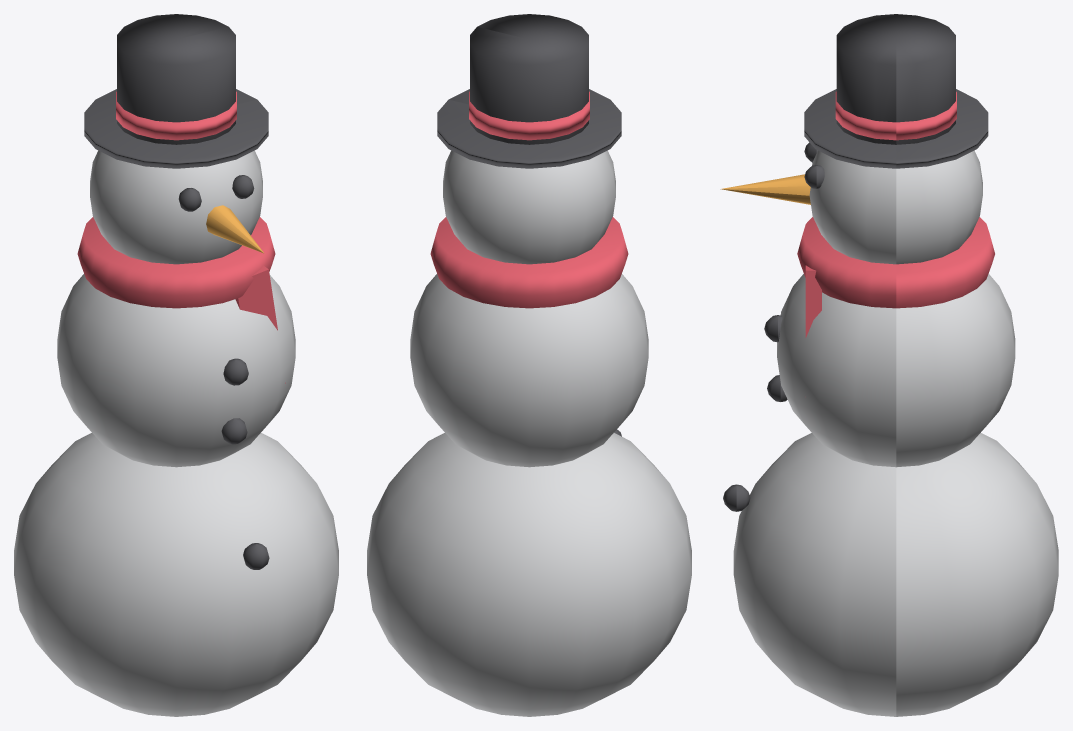
File: snowman.glb
3 views of the same model, side by side, from view 1: azimuth 30°, elevation 25°; view 2: azimuth 150°, elevation 25°; view 3: azimuth 270°, elevation 25° (orthographic).
Bounding box in the file's own units: 0.6 × 1.33 × 0.6154.
